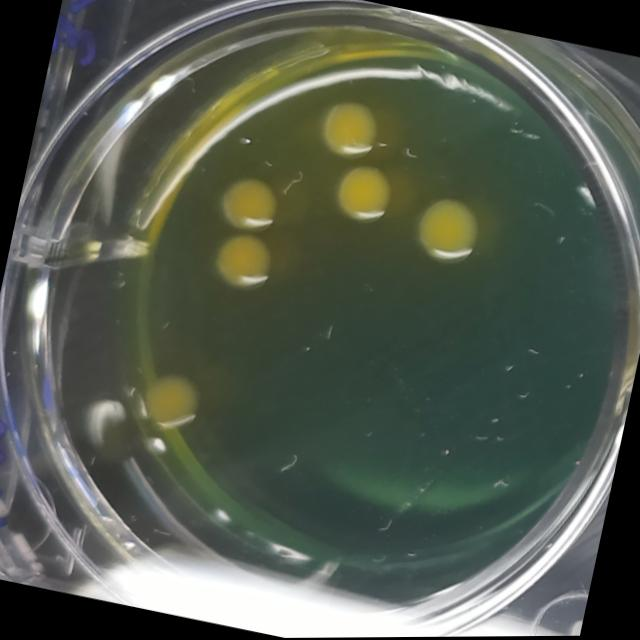vibrio: (402, 188, 488, 276), (323, 153, 397, 240), (214, 165, 290, 240), (140, 362, 206, 438), (314, 90, 384, 157), (208, 222, 274, 293)
